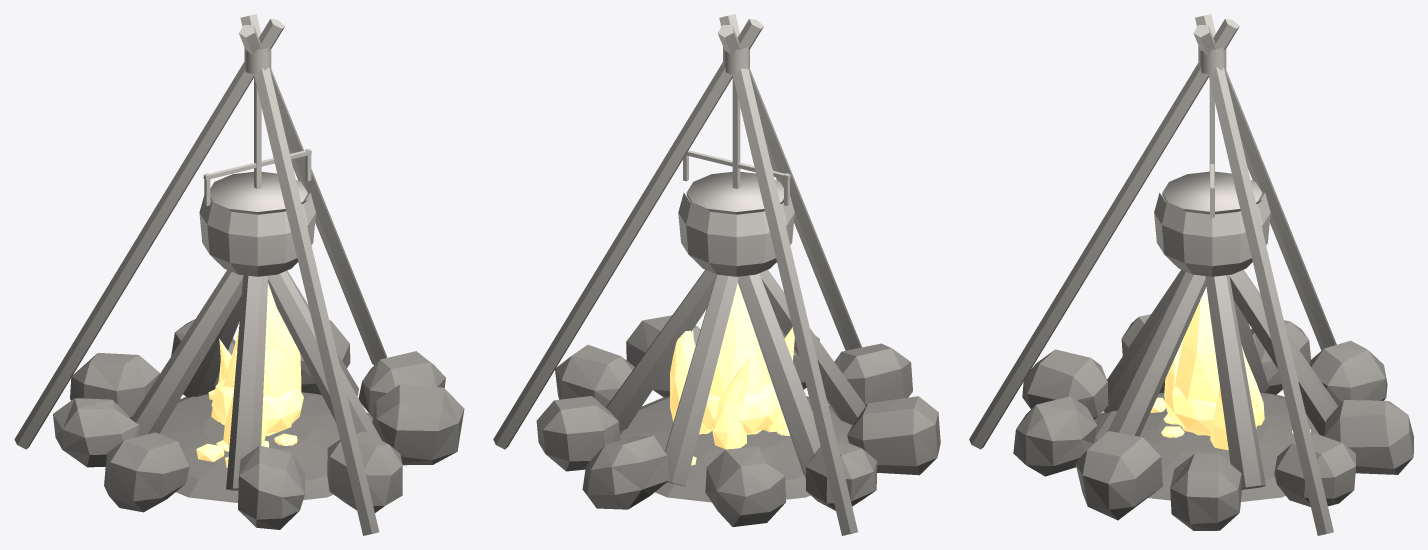
File: SM_VK_Prop_Campfire.glb
The picture shows the model from 3 angles, left to right: view 1: azimuth 30°, elevation 25°; view 2: azimuth 150°, elevation 25°; view 3: azimuth 270°, elevation 25°; orthographic projection.
Visible parts, largest first — view 1: SM_VK_Prop_Campfire; view 2: SM_VK_Prop_Campfire; view 3: SM_VK_Prop_Campfire.
Part boxes in pixels (x1,y1,x2,y2): SM_VK_Prop_Campfire: (14, 14, 464, 535); SM_VK_Prop_Campfire: (493, 14, 940, 535); SM_VK_Prop_Campfire: (969, 14, 1413, 535).
Bounding box in the file's own units: 1.53 × 1.73 × 1.6.
